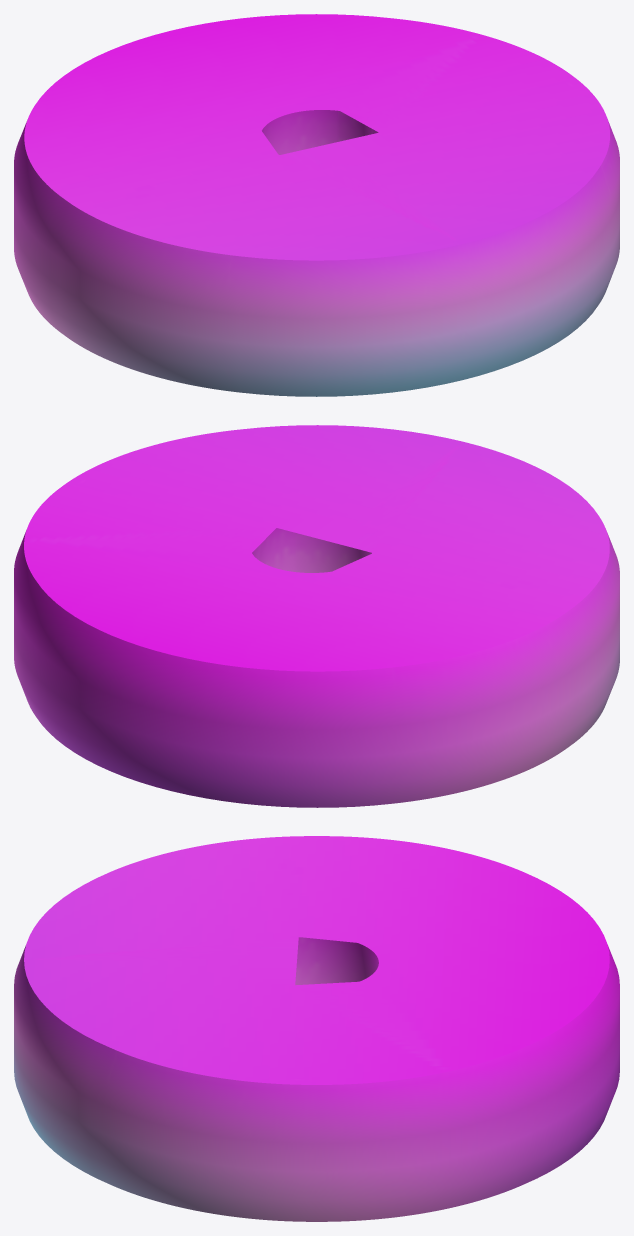
3 renders of one model, top to bottom at view 1: azimuth 30°, elevation 25°; view 2: azimuth 150°, elevation 25°; view 3: azimuth 270°, elevation 25°, orthographic.
Visible parts, largest first — view 1: Curve.010; view 2: Curve.010; view 3: Curve.010.
Part boxes in pixels (x1,y1,x2,y2): Curve.010: (14, 14, 619, 396); Curve.010: (14, 425, 619, 807); Curve.010: (14, 836, 619, 1221).
Bounding box in the file's own units: 45.8 × 11.36 × 45.56.
Materials: 1 (1 with a texture image).
